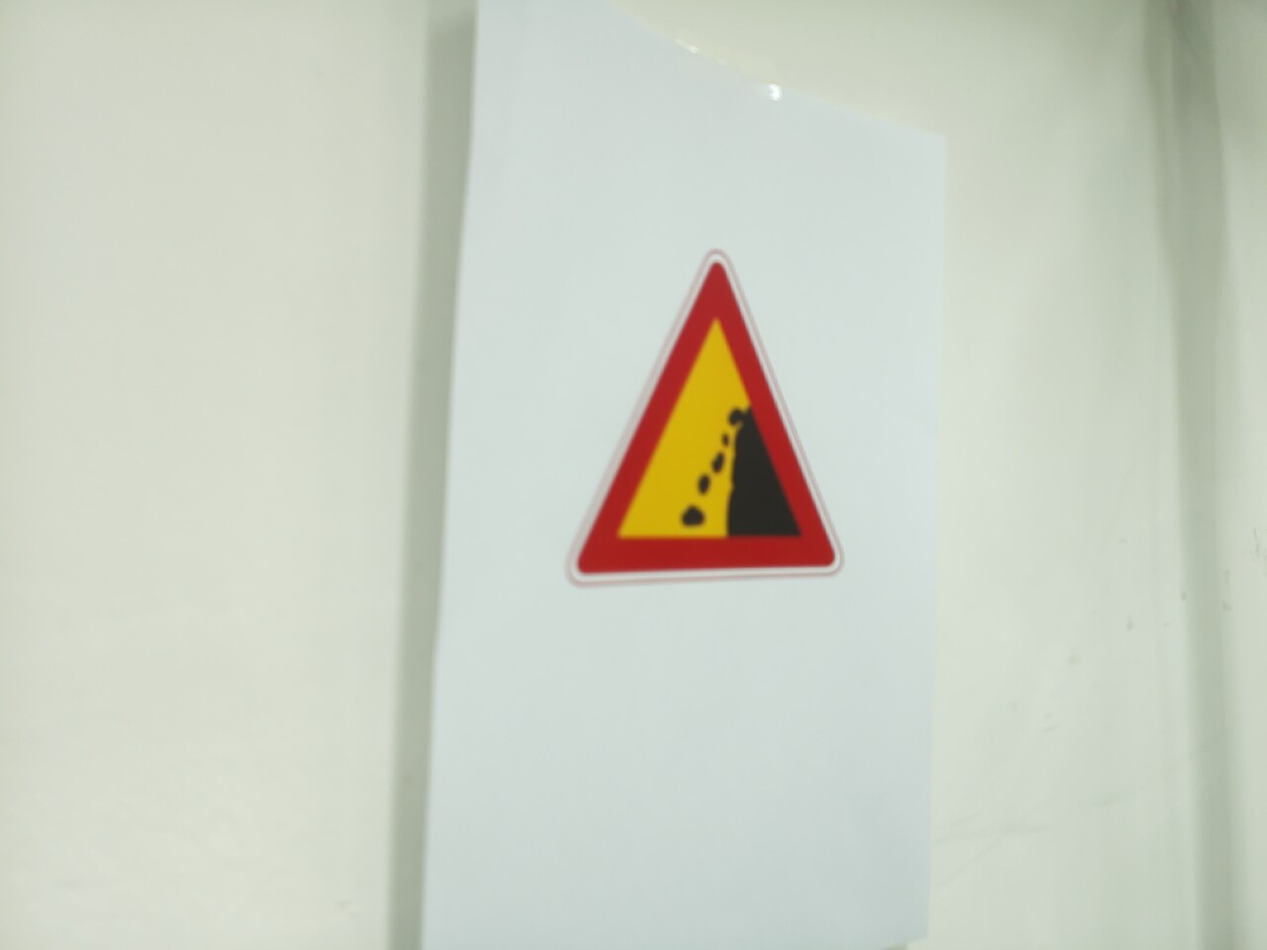falling_rocks: (569, 252, 844, 584)
